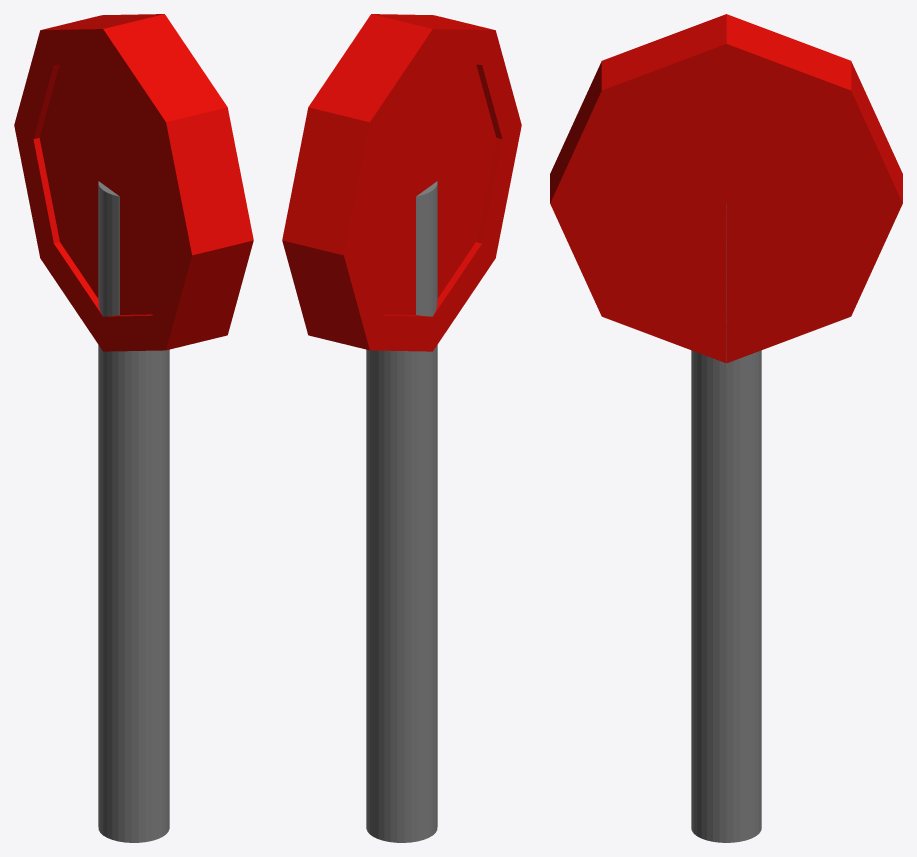
Rendered from StopSign.fbx.
The picture shows the model from 3 angles, left to right: view 1: azimuth 30°, elevation 25°; view 2: azimuth 150°, elevation 25°; view 3: azimuth 270°, elevation 25°; orthographic projection.
Parts seen in each view (by area): view 1: Cylinder.001; view 2: Cylinder.001; view 3: Cylinder.001.
Part boxes in pixels (x1=…): Cylinder.001: x1=14, y1=14, x2=253, y2=842; Cylinder.001: x1=282, y1=14, x2=521, y2=842; Cylinder.001: x1=550, y1=14, x2=902, y2=842.
Bounding box in the file's own units: 10 × 125 × 50.
